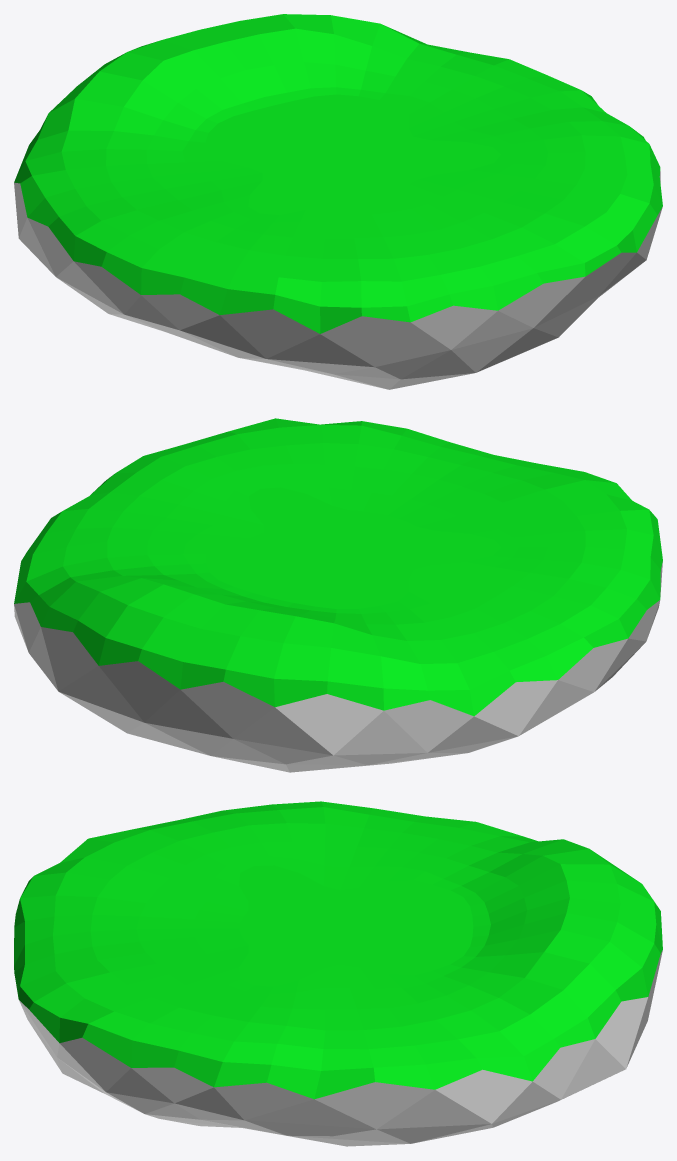
Rendered from TeddyIsland.fbx.
The picture shows the model from 3 angles, top to bottom: view 1: azimuth 30°, elevation 25°; view 2: azimuth 150°, elevation 25°; view 3: azimuth 270°, elevation 25°; orthographic projection.
Visible parts, largest first — view 1: TeddyIsland; view 2: TeddyIsland; view 3: TeddyIsland.
Boxes of the visible parts, x1,y1,x2,y2 form: TeddyIsland: (14,14,662,389); TeddyIsland: (14,418,662,772); TeddyIsland: (14,801,662,1146).
Size of the model in its own units: 39.07 by 13.1 by 39.51.
